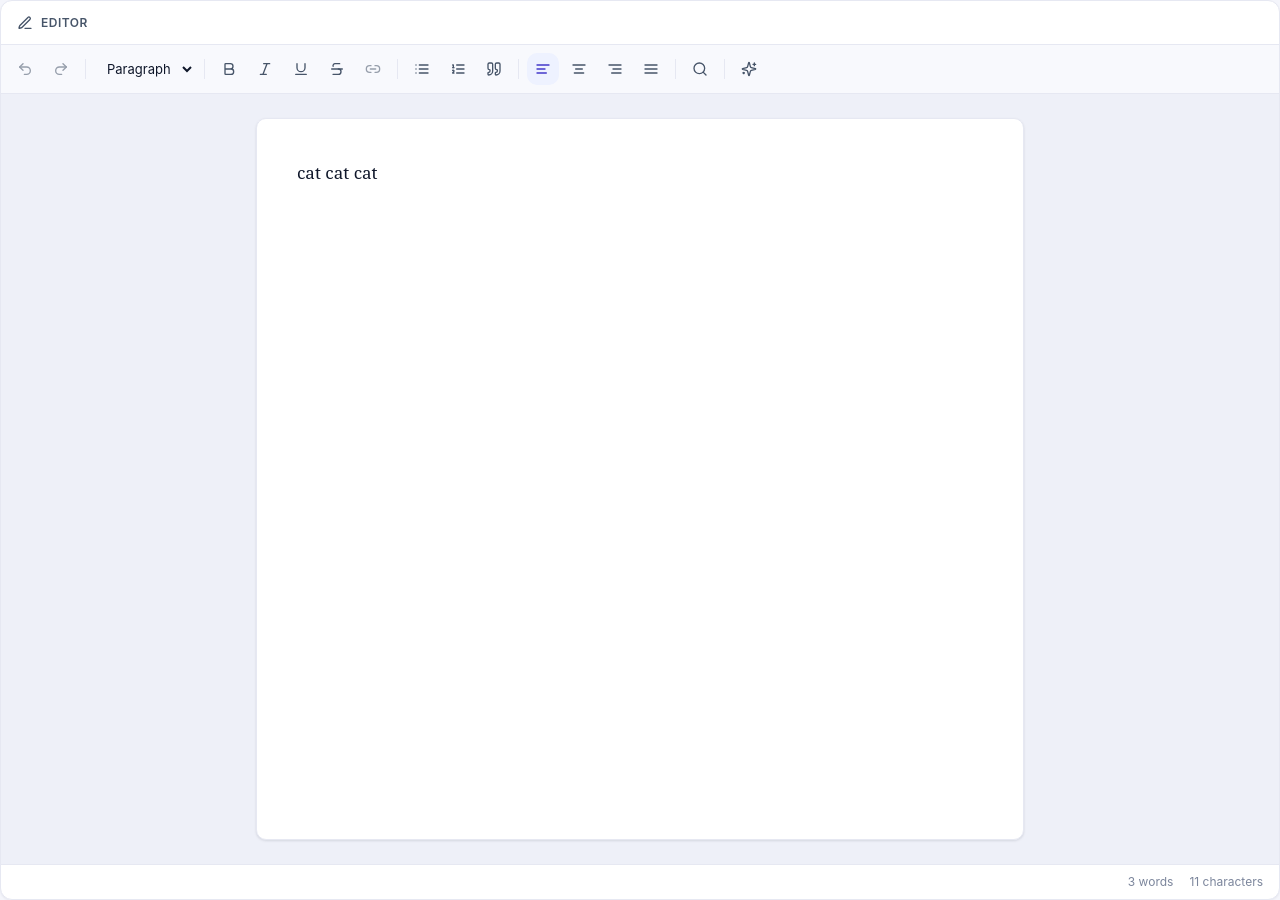
Test case: Editor find and replace › disables selection search when the editor has no selection
Click the button named "Find in document": (700, 69) [684,53,716,85]
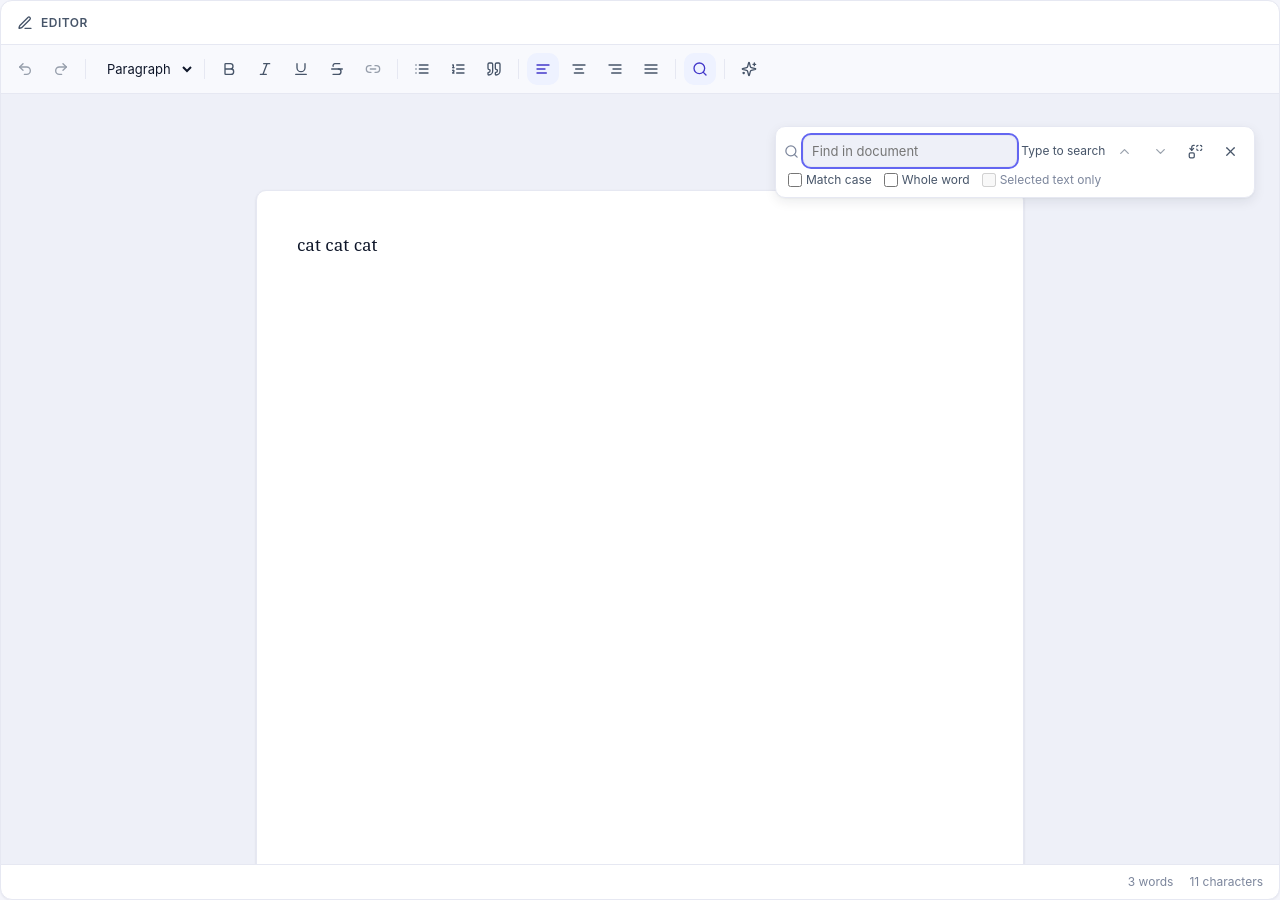
Expected: the form named "Find and replace" is shown, [775,126,1255,198]
Expected: the checkbox labelled "Selected text only" is disabled, [982,173,996,187]
In the field labelled "Find in document": (910, 151) [803,135,1017,167], type "cat"
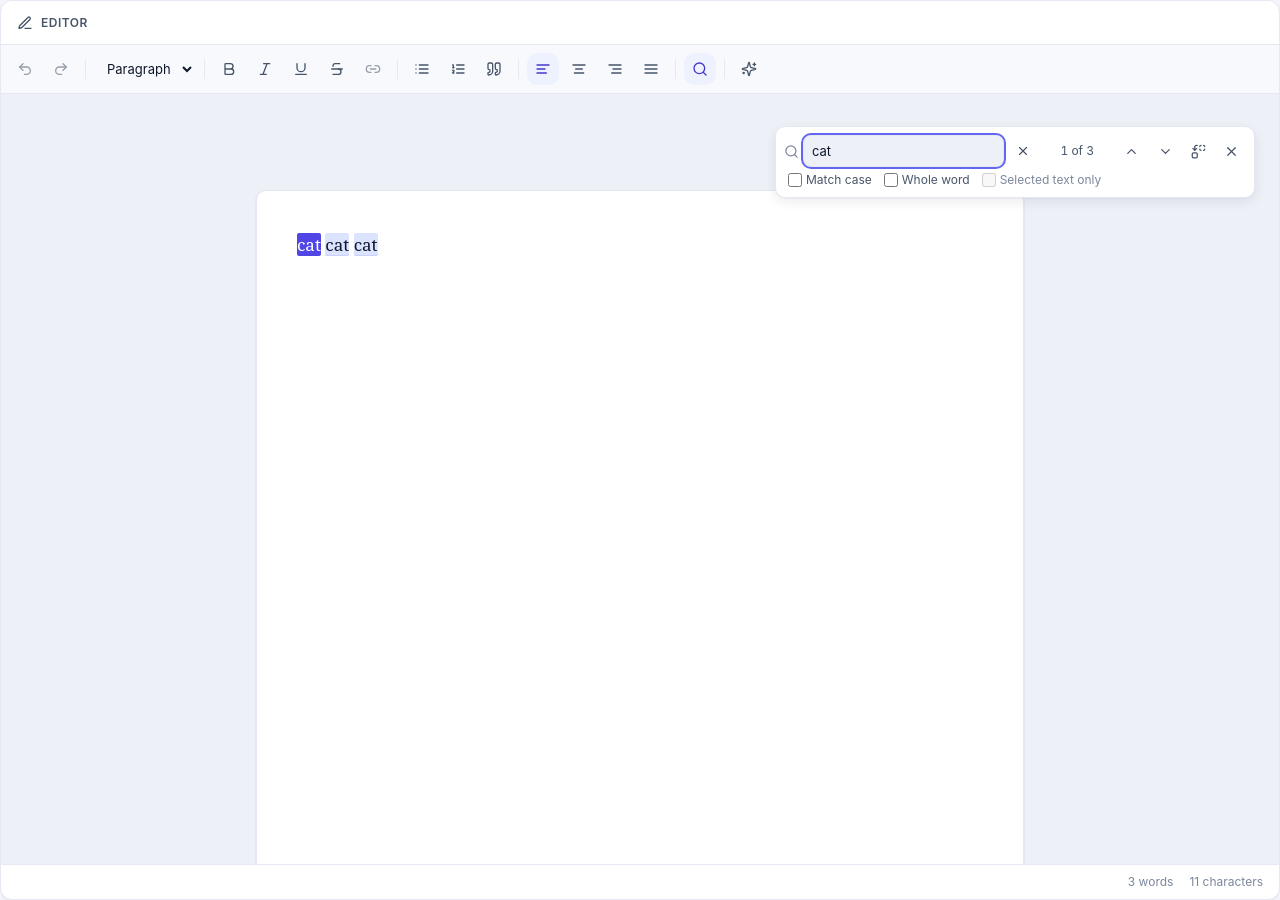
Expected: the text "1 of 3" is shown, [1060,143,1094,158]
